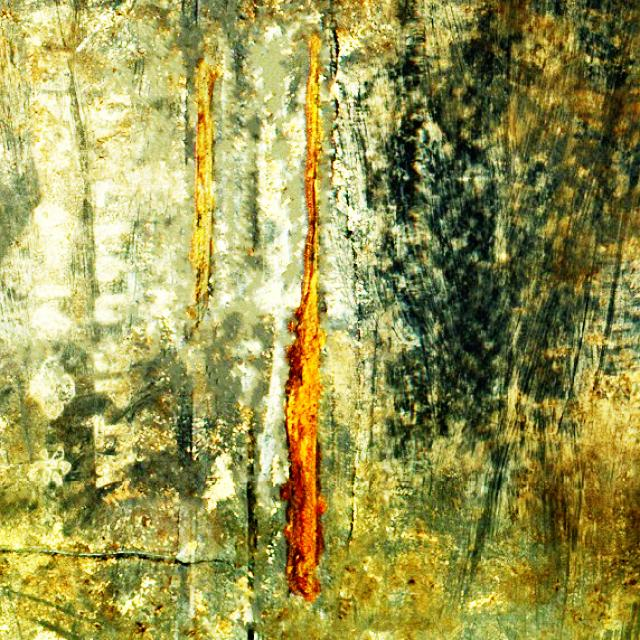Corrosion: (280, 36, 327, 601), (189, 58, 217, 311)
